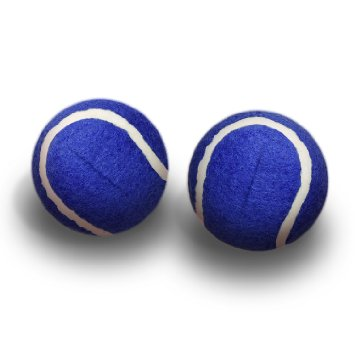blue ball: (186, 109, 330, 252), (30, 98, 170, 239)
